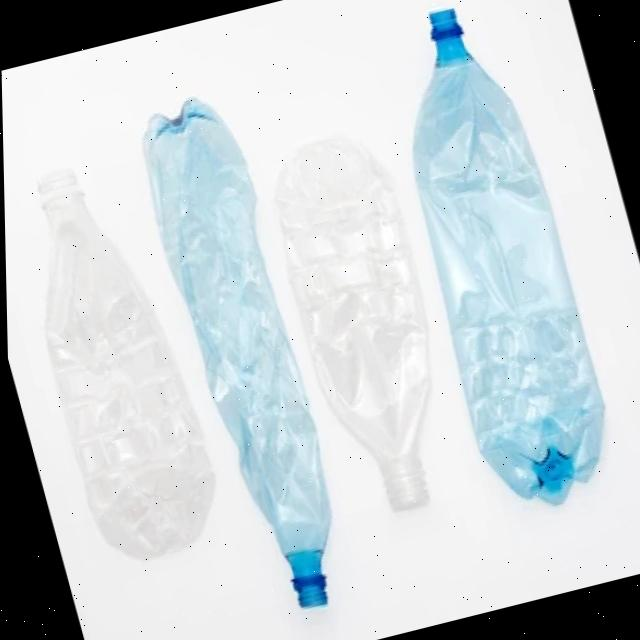Dry: (363, 0, 625, 520), (126, 87, 363, 621), (3, 153, 230, 573), (254, 126, 476, 524)
